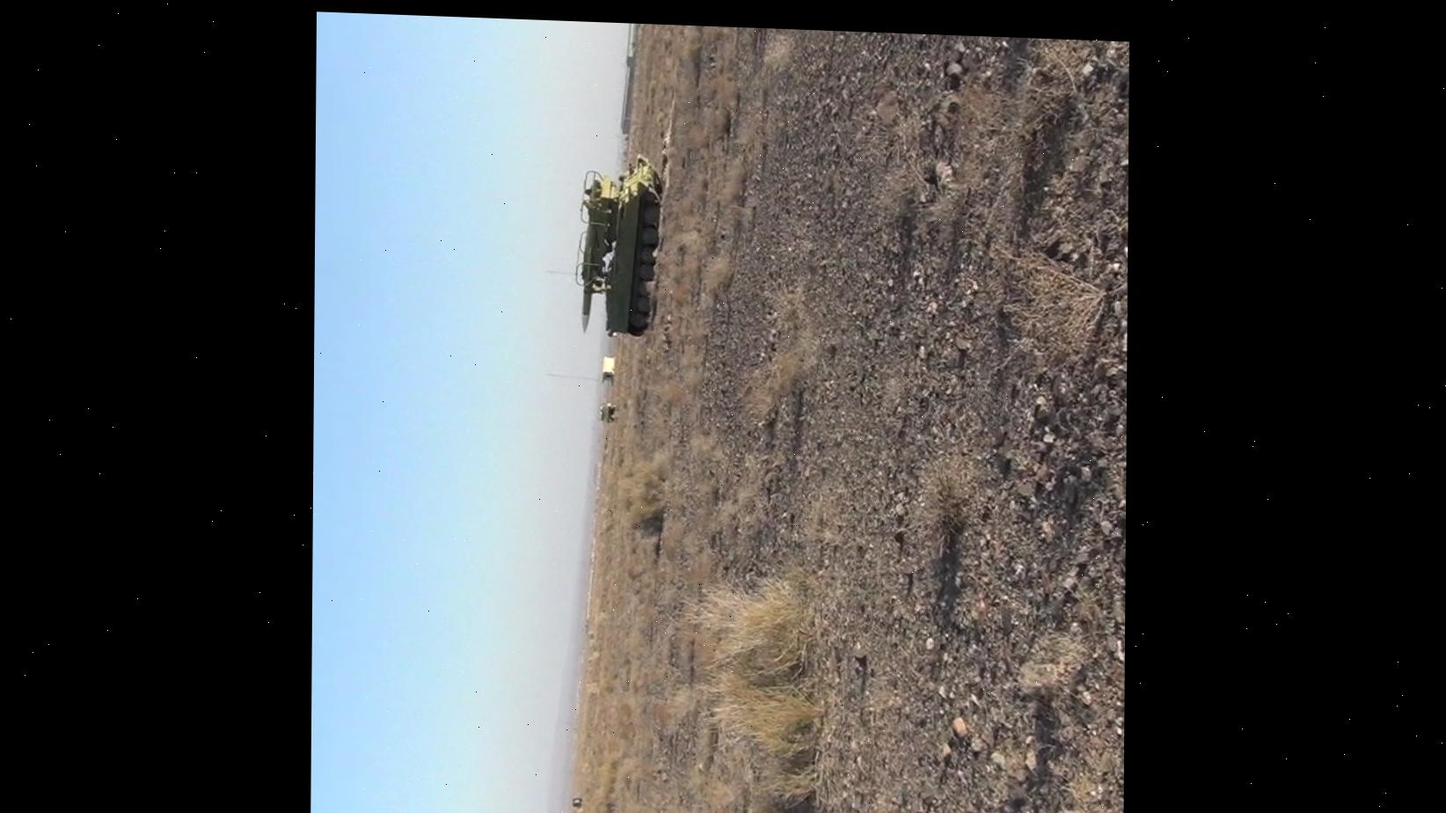armored_car: (576, 158, 662, 340)
